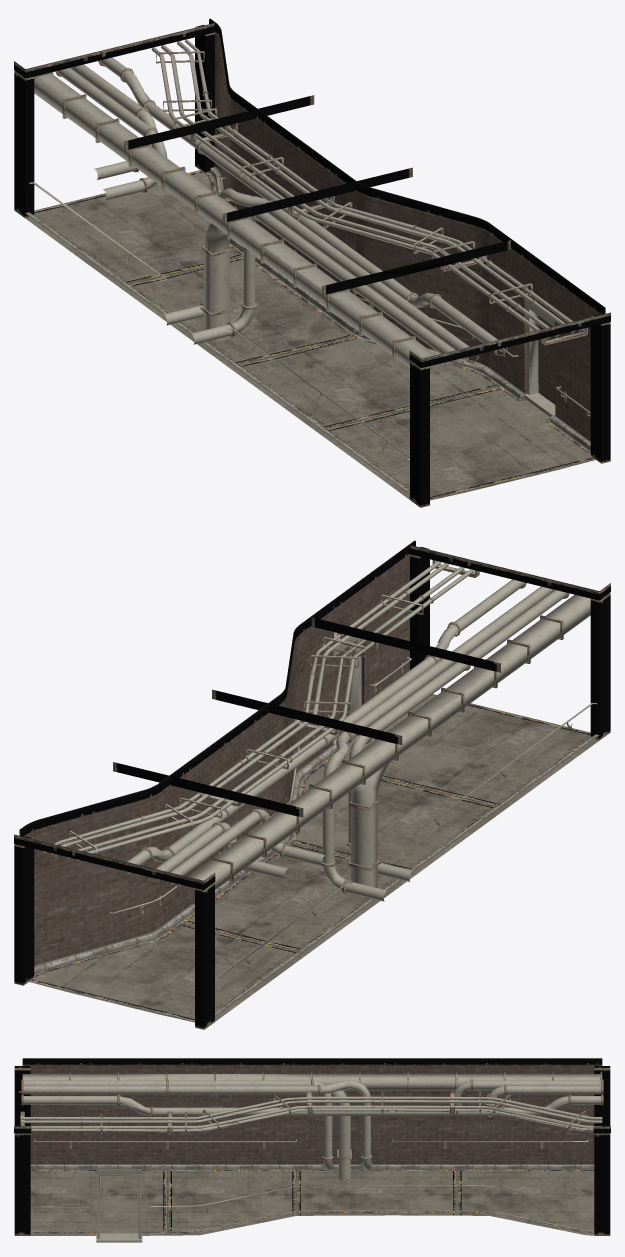
Rendered from corridor_straight_a_18m.glb.
3 renders of one model, top to bottom at view 1: azimuth 30°, elevation 25°; view 2: azimuth 150°, elevation 25°; view 3: azimuth 270°, elevation 25°, orthographic. The views are drawn at different scales.
Visible parts, largest first — view 1: corridor_straight_a_18m_LOD0; view 2: corridor_straight_a_18m_LOD0; view 3: corridor_straight_a_18m_LOD0.
Part boxes in pixels (x1,y1,x2,y2): corridor_straight_a_18m_LOD0: (14, 18, 610, 507); corridor_straight_a_18m_LOD0: (14, 540, 610, 1029); corridor_straight_a_18m_LOD0: (14, 1058, 610, 1242).
Size of the model in its own units: 5.92 by 3.81 by 18.54.
6 materials, 6 textured.
